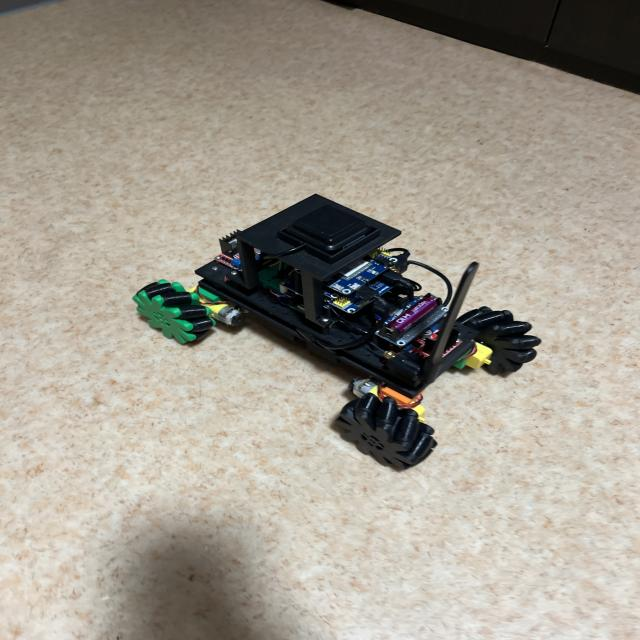robot: (134, 195, 541, 469)
